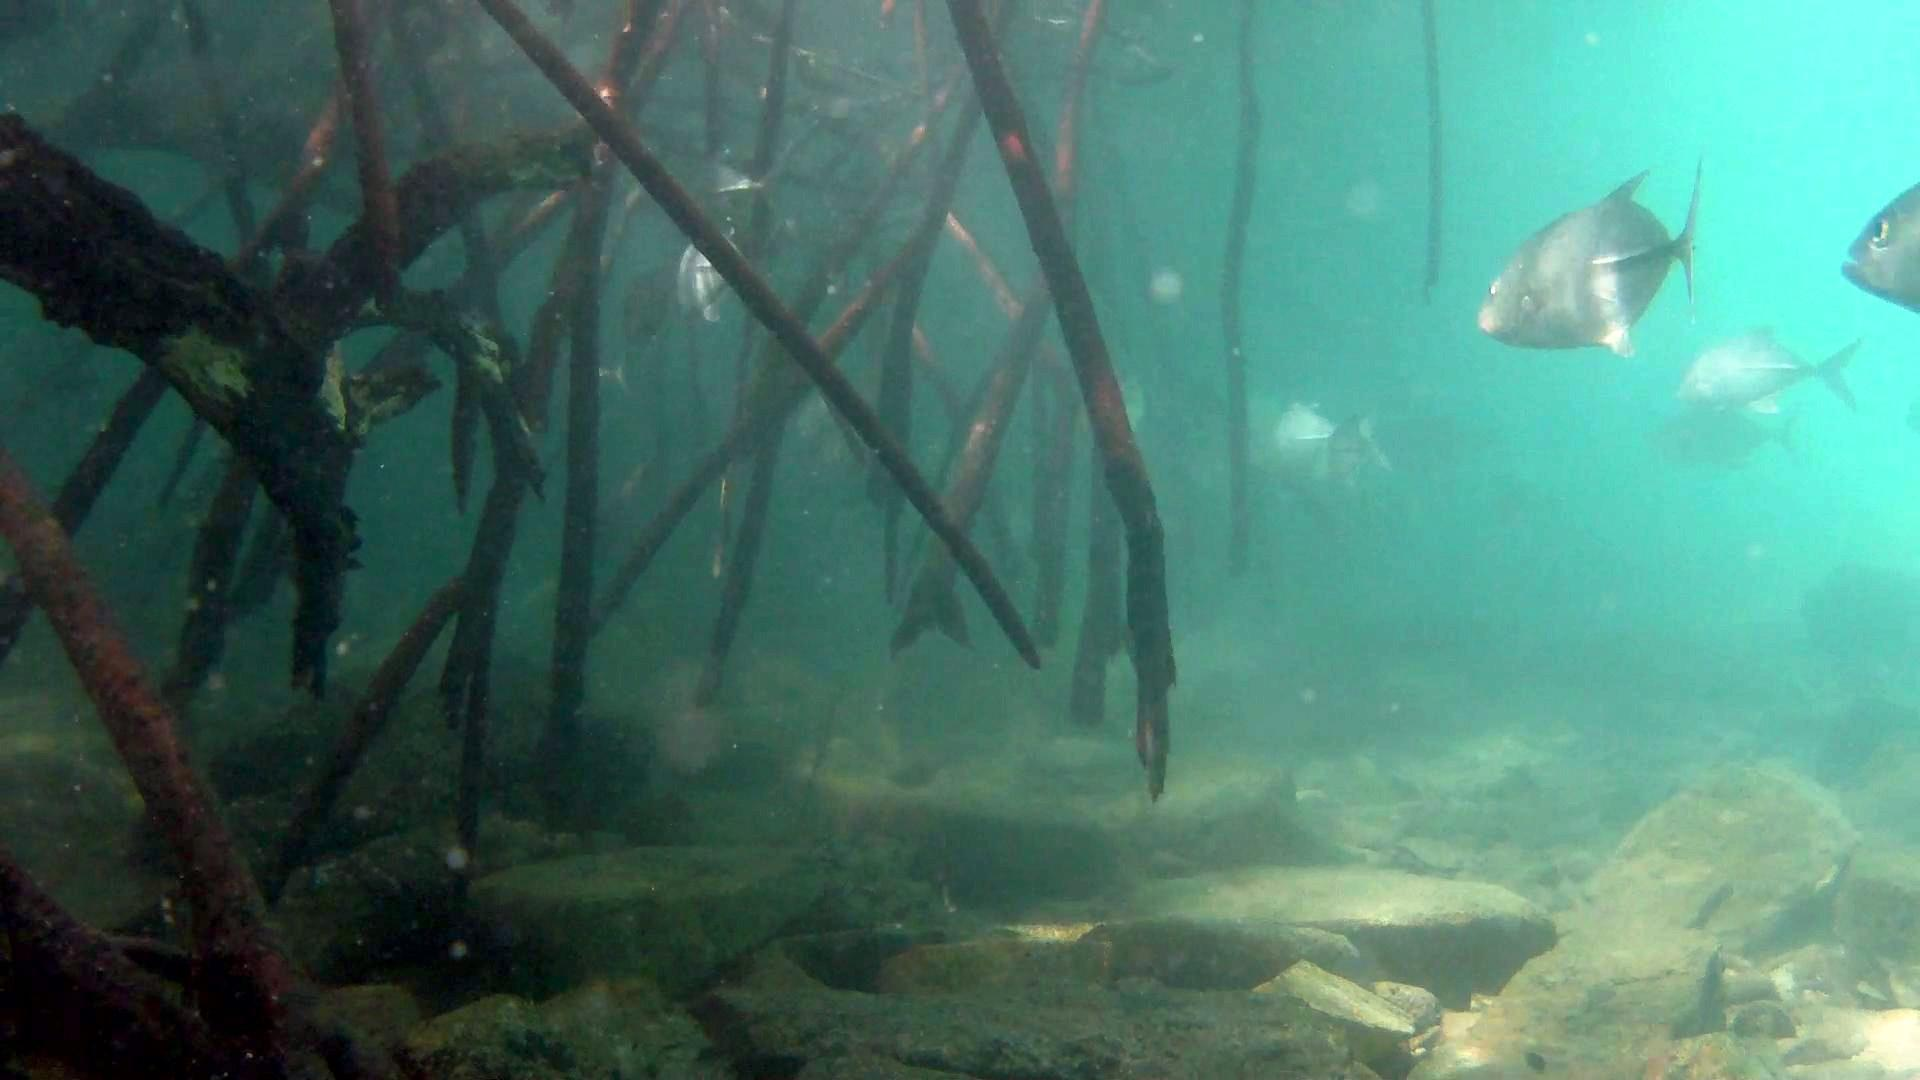caranx: (1464, 148, 1716, 369), (1828, 170, 1920, 326)
